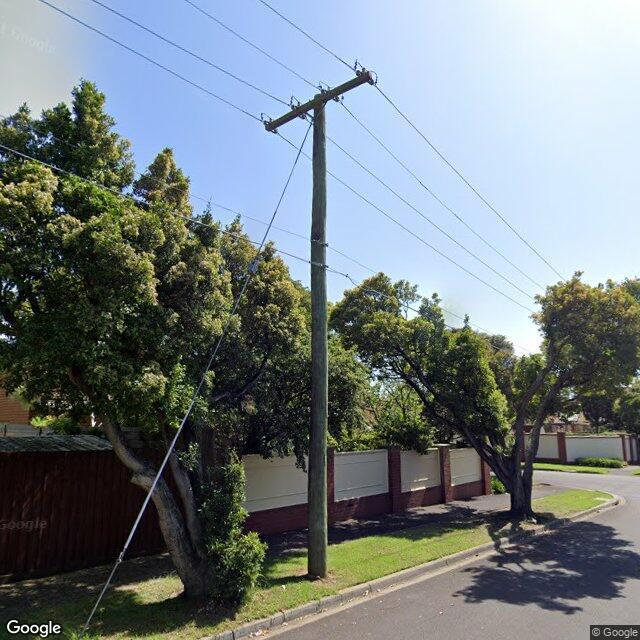crossarm: (262, 58, 379, 134)
timber-pole: (306, 92, 328, 581)
